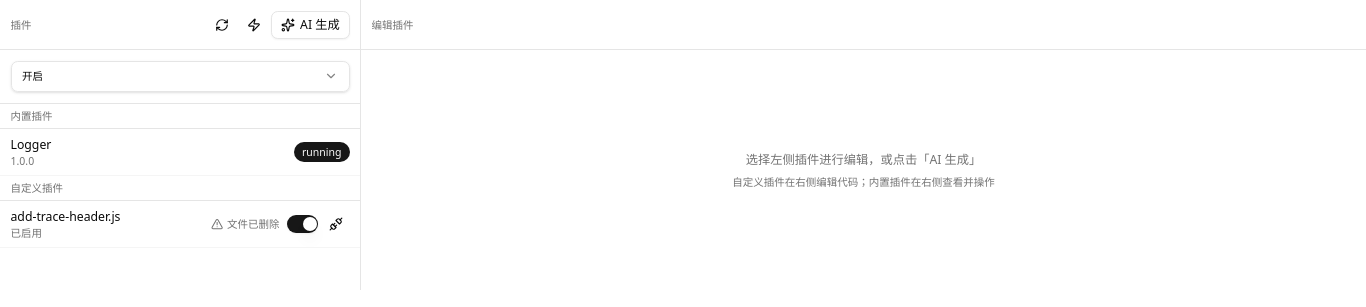
Test case: PluginConfig list|edit › loaded plugin whose file was deleted › shows 卸载 instead of 停止 in the details pane and unloads with the same endpoint
This screenshot has width=1366, height=307.
Click the element with test id "plugin-config-row-custom-deleted-add-trace-header" at (180, 224), box [0,201,360,248]
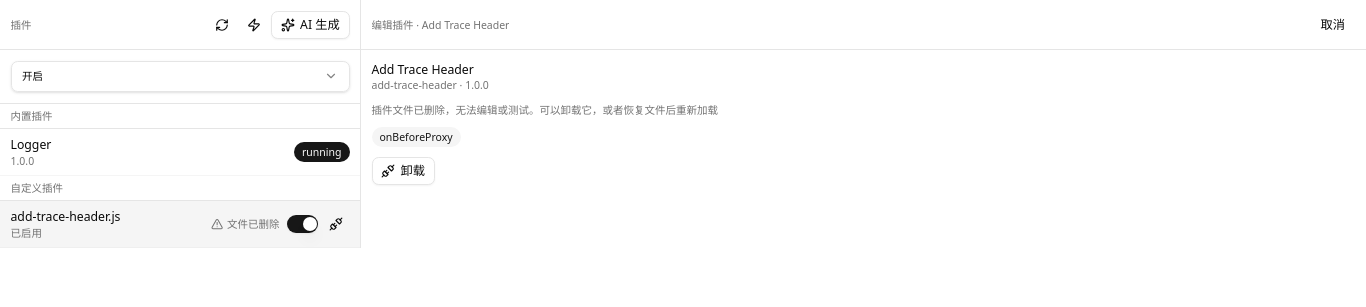
Now the button with aria-label "卸载插件 Add Trace Header" reads "卸载"
Click the button with aria-label "卸载插件 Add Trace Header" at (403, 171), box [372,157,435,185]
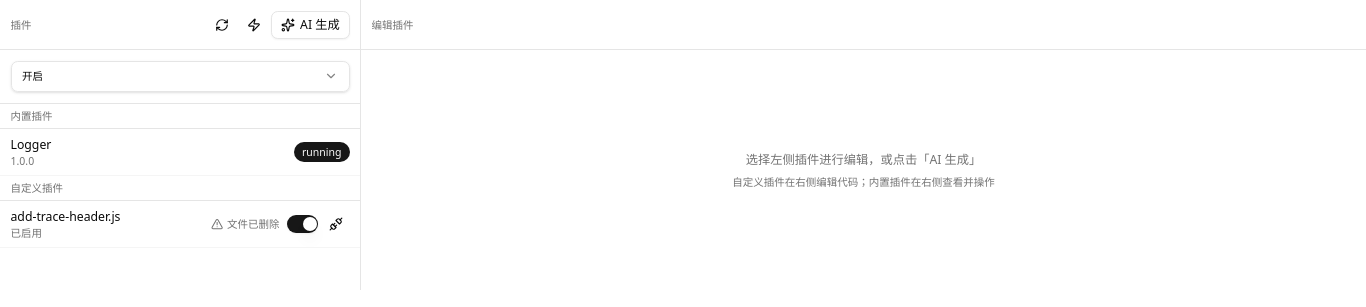
Now the text "选择左侧插件进行编辑，或点击「AI 生成」" is shown, box [746,151,981,168]
